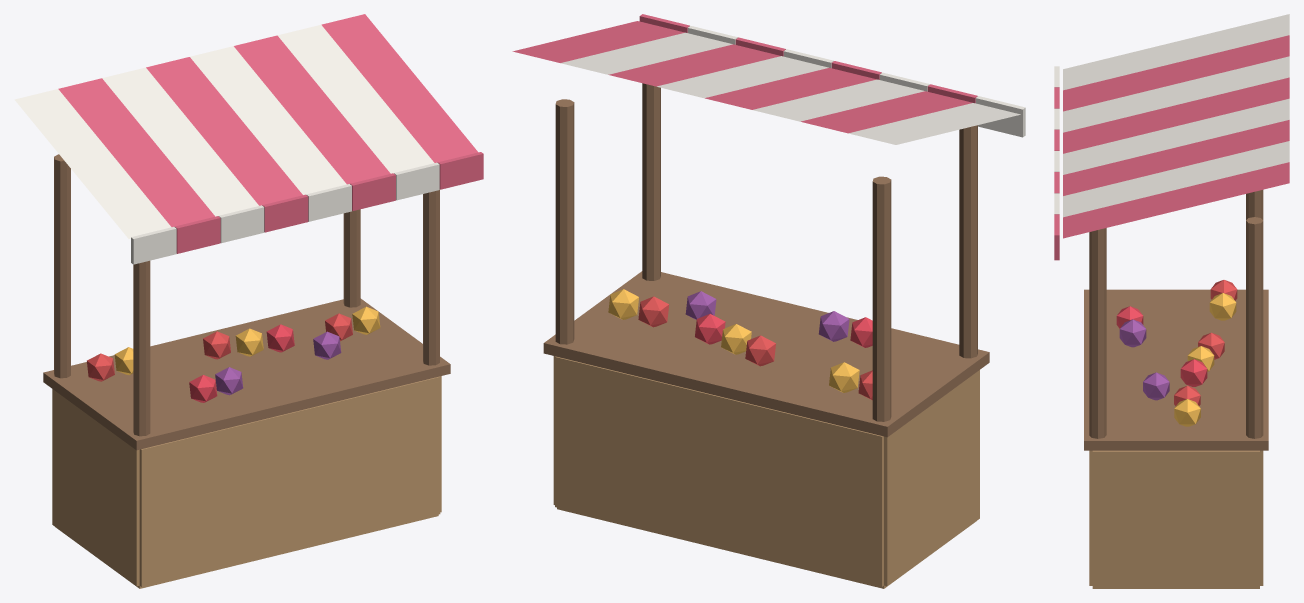
The model's file is HOB_MarketStall.fbx.
The picture shows the model from 3 angles, left to right: view 1: azimuth 30°, elevation 25°; view 2: azimuth 150°, elevation 25°; view 3: azimuth 270°, elevation 25°; orthographic projection. The views are drawn at different scales.
Visible parts, largest first — view 1: HOB_MarketStall; view 2: HOB_MarketStall; view 3: HOB_MarketStall.
Boxes of the visible parts, x1,y1,x2,y2 form: HOB_MarketStall: [14, 14, 483, 588]; HOB_MarketStall: [512, 14, 1025, 588]; HOB_MarketStall: [1054, 14, 1289, 588].
Bounding box in the file's own units: 230 × 265 × 135.
